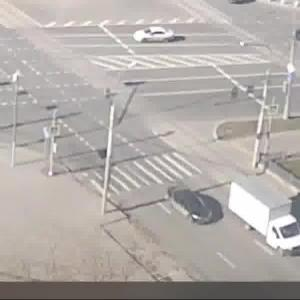car: (226, 177, 300, 255), (163, 185, 217, 234), (131, 25, 196, 48)
